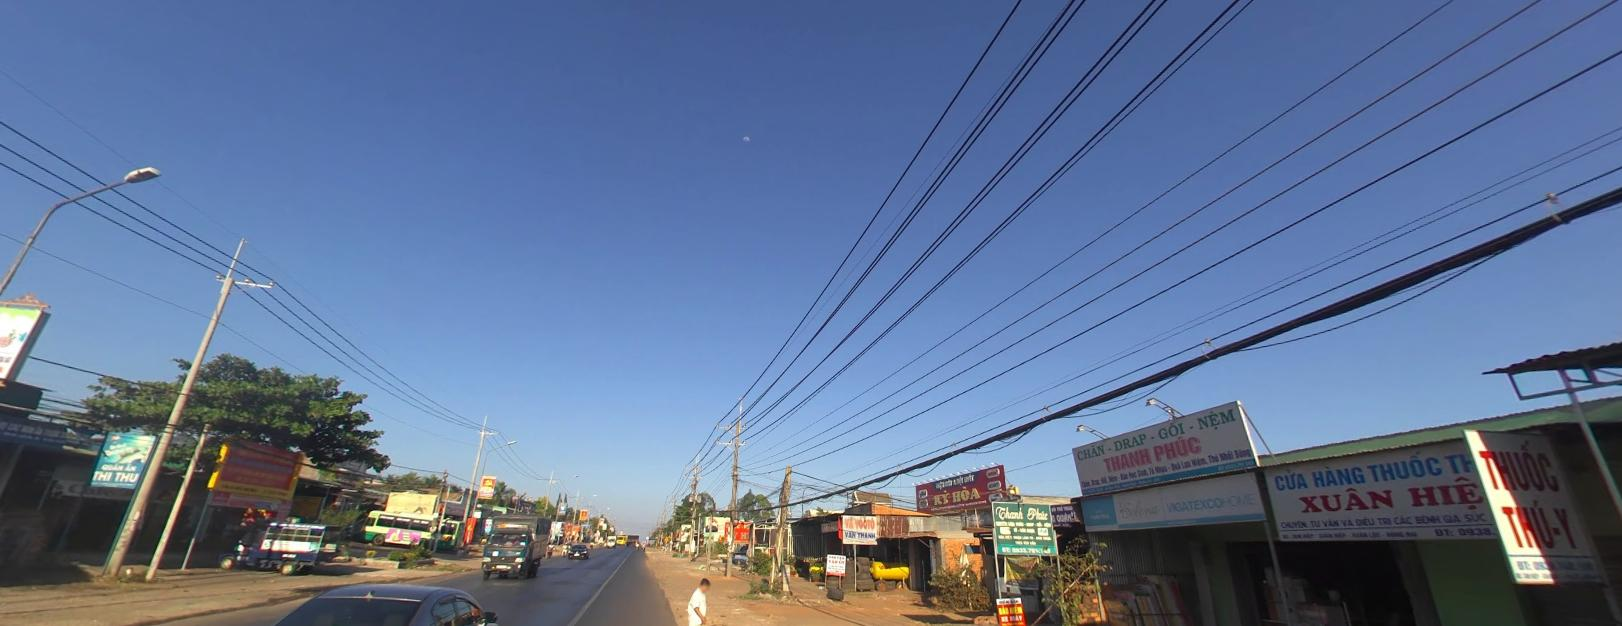Nguy hiem: (663, 535, 669, 541)
